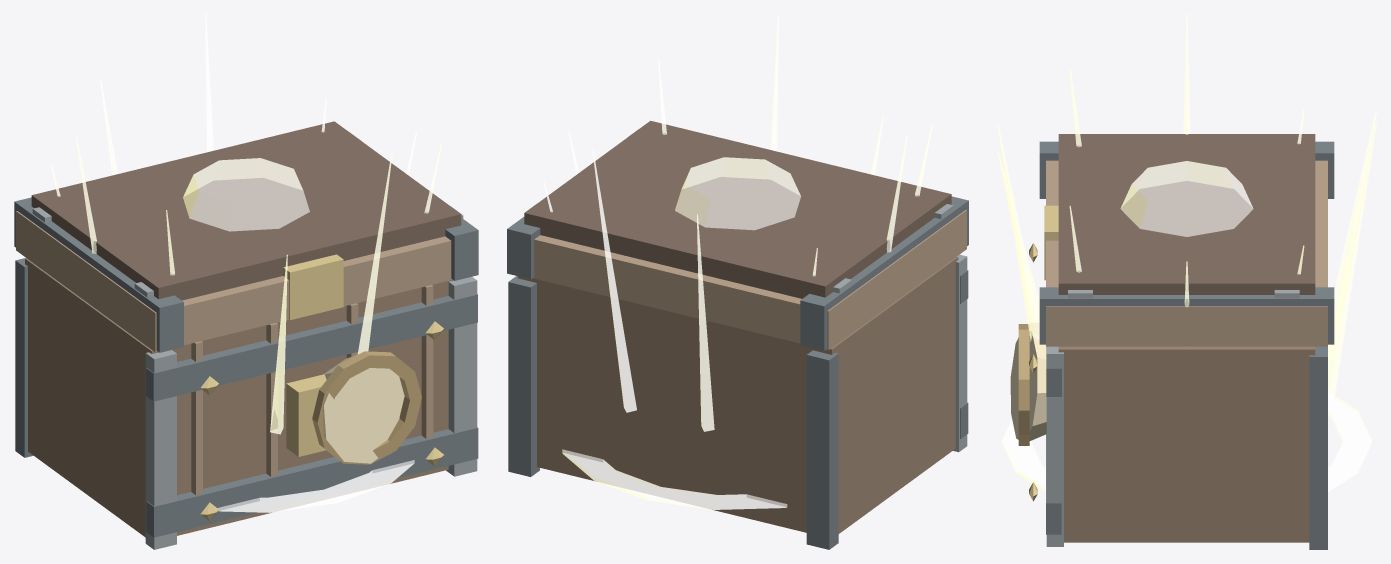
File: botin.glb
The picture shows the model from 3 angles, left to right: view 1: azimuth 30°, elevation 25°; view 2: azimuth 150°, elevation 25°; view 3: azimuth 270°, elevation 25°; orthographic projection.
Visible parts, largest first — view 1: cofre, cofre_tapa, brillo_cofre, iman; view 2: cofre, cofre_tapa, brillo_cofre; view 3: cofre_tapa, cofre, brillo_cofre, iman.
Boxes of the visible parts, <box> form: cofre: <box>15,258,478,549</box>; cofre_tapa: <box>14,121,478,352</box>; brillo_cofre: <box>50,14,442,512</box>; iman: <box>312,351,421,464</box>; cofre: <box>508,254,968,549</box>; cofre_tapa: <box>507,120,968,350</box>; brillo_cofre: <box>543,14,932,509</box>; cofre_tapa: <box>1039,134,1334,346</box>; cofre: <box>1029,243,1327,549</box>; brillo_cofre: <box>997,14,1376,491</box>; iman: <box>1010,324,1046,445</box>.
Bounding box in the file's own units: 1.27 × 1.31 × 1.21.
